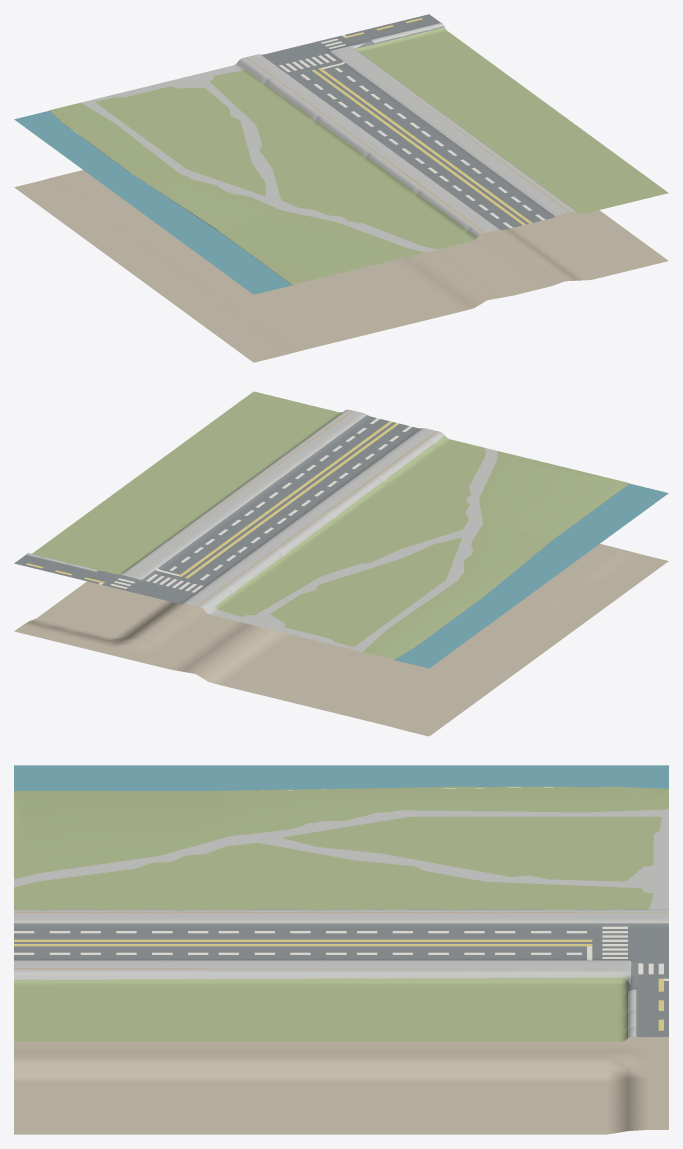
3 views of the same model, one above another, from view 1: azimuth 30°, elevation 25°; view 2: azimuth 150°, elevation 25°; view 3: azimuth 270°, elevation 25° (orthographic). The views are drawn at different scales.
Visible parts, largest first — view 1: s_-12_-3__grass, s_-12_-3__soil, s_-12_-3__stone_paving, s_-12_-3__asphalt, s_-12_-3__water, s_-12_-3__yellow_marking, s_-12_-3__white_marking, s_-12_-3__timber_deck; view 2: s_-12_-3__grass, s_-12_-3__soil, s_-12_-3__stone_paving, s_-12_-3__asphalt, s_-12_-3__water, s_-12_-3__yellow_marking, s_-12_-3__white_marking, s_-12_-3__timber_deck; view 3: s_-12_-3__grass, s_-12_-3__soil, s_-12_-3__stone_paving, s_-12_-3__asphalt, s_-12_-3__water, s_-12_-3__yellow_marking, s_-12_-3__white_marking, s_-12_-3__timber_deck.
Part boxes in pixels (bbox=[...]): s_-12_-3__grass: bbox=[49, 27, 668, 284]; s_-12_-3__soil: bbox=[14, 170, 668, 362]; s_-12_-3__stone_paving: bbox=[81, 22, 575, 252]; s_-12_-3__asphalt: bbox=[261, 14, 554, 229]; s_-12_-3__water: bbox=[14, 111, 291, 294]; s_-12_-3__yellow_marking: bbox=[312, 18, 532, 225]; s_-12_-3__white_marking: bbox=[279, 35, 545, 228]; s_-12_-3__timber_deck: bbox=[246, 56, 569, 232]; s_-12_-3__grass: bbox=[32, 391, 629, 659]; s_-12_-3__soil: bbox=[14, 544, 668, 736]; s_-12_-3__stone_paving: bbox=[26, 409, 497, 651]; s_-12_-3__asphalt: bbox=[14, 415, 421, 603]; s_-12_-3__water: bbox=[394, 483, 668, 668]; s_-12_-3__yellow_marking: bbox=[26, 421, 399, 583]; s_-12_-3__white_marking: bbox=[99, 418, 412, 592]; s_-12_-3__timber_deck: bbox=[144, 410, 437, 606]; s_-12_-3__grass: bbox=[14, 786, 668, 1041]; s_-12_-3__soil: bbox=[14, 968, 668, 1134]; s_-12_-3__stone_paving: bbox=[14, 809, 668, 1037]; s_-12_-3__asphalt: bbox=[14, 923, 668, 1038]; s_-12_-3__water: bbox=[14, 765, 668, 790]; s_-12_-3__yellow_marking: bbox=[14, 939, 663, 1030]; s_-12_-3__white_marking: bbox=[14, 926, 668, 980]; s_-12_-3__timber_deck: bbox=[14, 911, 668, 969].
Bounding box in the file's own units: 128 × 21.64 × 128.
